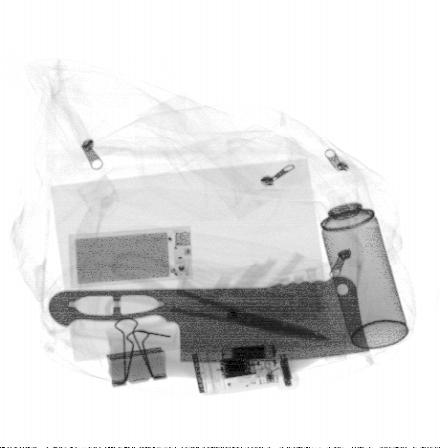Knife: (49, 274, 371, 363)
Powerbank: (69, 226, 194, 291)
Scissors: (102, 251, 343, 340)
Sprayer: (312, 172, 409, 350)
